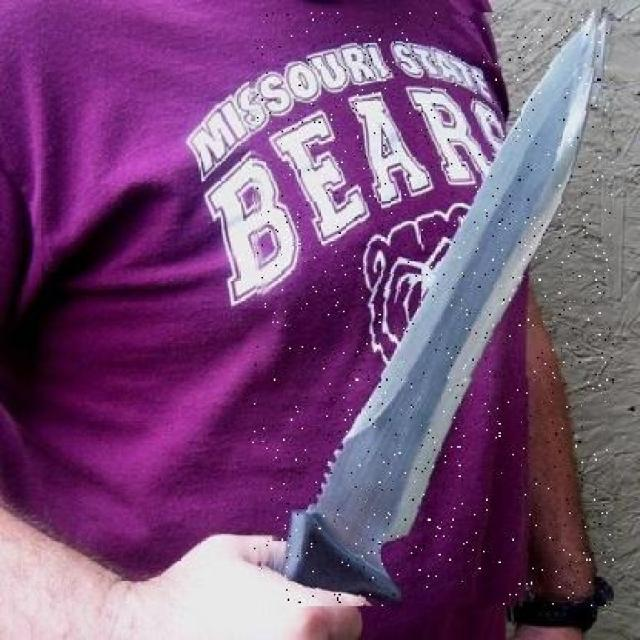knife: (252, 12, 614, 606)
